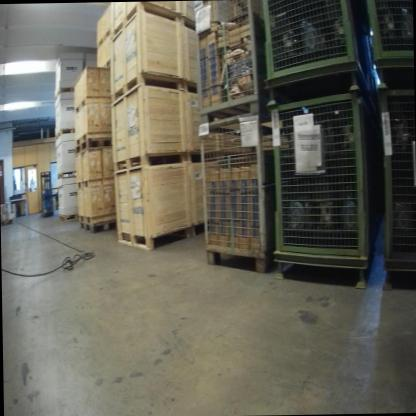pallet: (74, 137, 112, 162), (76, 215, 115, 237), (53, 83, 71, 106), (54, 126, 74, 143), (56, 167, 76, 183), (58, 211, 78, 226)
stillage: (265, 88, 385, 304), (190, 100, 281, 283), (255, 0, 373, 100), (369, 80, 416, 299), (190, 0, 276, 115), (360, 0, 412, 95)
